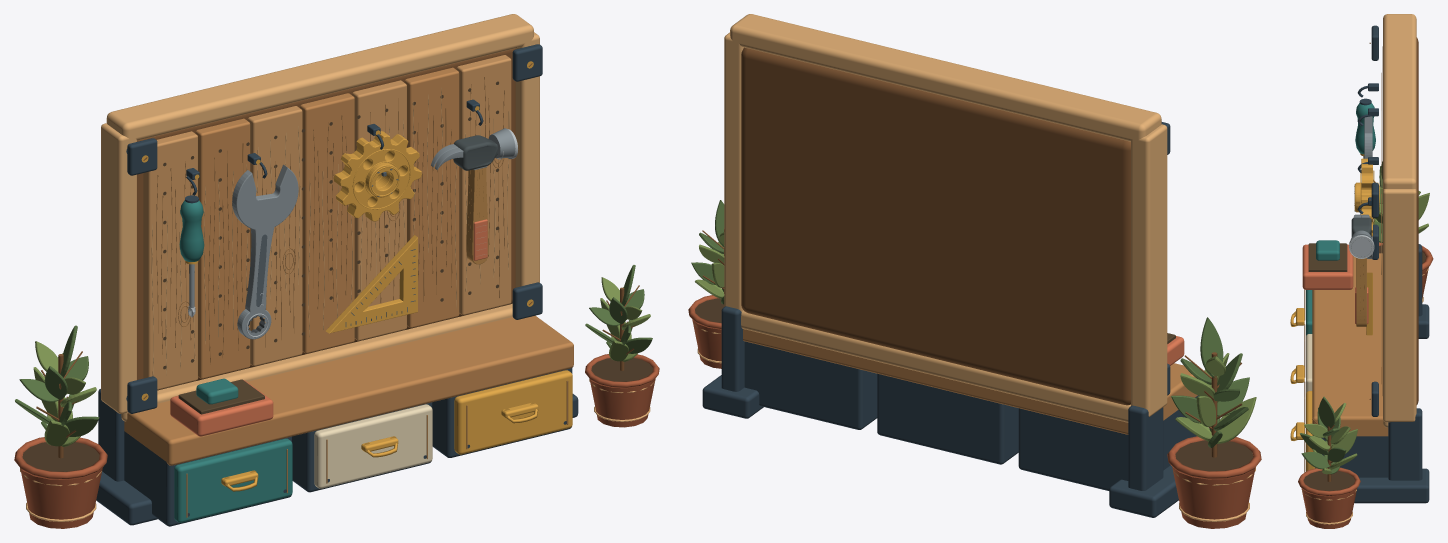
The model's file is workshop-tool-rack-final.glb.
3 renders of one model, left to right at view 1: azimuth 30°, elevation 25°; view 2: azimuth 150°, elevation 25°; view 3: azimuth 270°, elevation 25°, orthographic. The views are drawn at different scales.
Parts seen in each view (by area): view 1: timber, plank, edge, brass (×3), navy, pot (×2), teal, cream, grain, steel, darkWood, grainLight (+6 smaller); view 2: darkWood, edge, navy, pot (×2), timber, soil, Leaf_8, Leaf_1; view 3: edge, timber, navy, pot (×2), brass (×3), coral, darkWood, teal, soil, Wood_Handle, shadow, Teal_Handle (+13 smaller).
Part boxes in pixels (x1,y1,x2,y2): timber: [124, 67, 573, 465]; plank: [143, 55, 511, 389]; edge: [101, 14, 539, 421]; brass (×3): [141, 61, 572, 491]; navy: [96, 44, 578, 526]; pot (×2): [14, 354, 659, 528]; teal: [174, 378, 292, 522]; cream: [314, 404, 432, 488]; grain: [156, 77, 568, 517]; steel: [232, 164, 298, 339]; darkWood: [137, 48, 532, 398]; grainLight: [151, 88, 509, 375]; darkWood: [741, 47, 1130, 405]; edge: [724, 14, 1167, 422]; navy: [702, 122, 1199, 517]; pot (×2): [688, 295, 1261, 528]; timber: [743, 329, 1197, 434]; soil: [1175, 440, 1253, 471]; Leaf_8: [1200, 317, 1223, 377]; Leaf_1: [1217, 397, 1256, 443]; edge: [1383, 14, 1416, 427]; timber: [1312, 68, 1388, 436]; navy: [1315, 25, 1429, 503]; pot (×2): [1298, 242, 1433, 528]; brass (×3): [1290, 158, 1379, 471]; coral: [1302, 244, 1353, 289]; darkWood: [1369, 37, 1418, 404]; teal: [1306, 240, 1339, 335]; soil: [1303, 470, 1355, 490]; Wood_Handle: [1356, 258, 1366, 326]; shadow: [1308, 243, 1347, 271]; Teal_Handle: [1355, 103, 1375, 154].
Size of the model in its own units: 2.04 by 1.25 by 0.5082.
